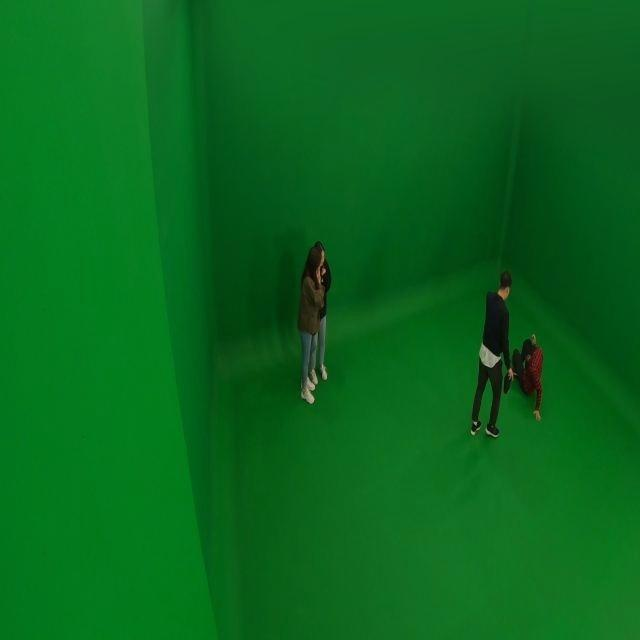fight: (468, 270, 547, 440)
non-fight: (295, 239, 330, 402)
